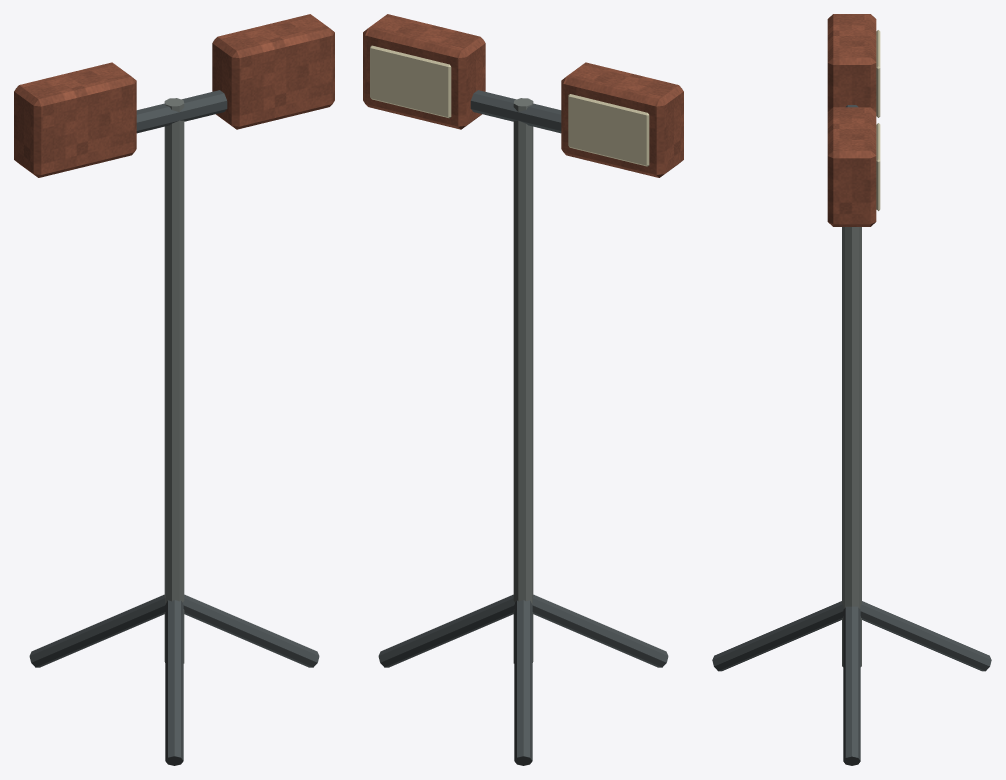
3 renders of one model, left to right at view 1: azimuth 30°, elevation 25°; view 2: azimuth 150°, elevation 25°; view 3: azimuth 270°, elevation 25°, orthographic. The views are drawn at different scales.
Parts seen in each view (by area): view 1: LampYaw_Mesh, ST2-P04_Mesh; view 2: LampYaw_Mesh, ST2-P04_Mesh; view 3: ST2-P04_Mesh, LampYaw_Mesh.
Boxes of the visible parts, x1=… form: LampYaw_Mesh: x1=14, y1=14, x2=334, y2=177; ST2-P04_Mesh: x1=29, y1=98, x2=319, y2=765; LampYaw_Mesh: x1=363, y1=14, x2=683, y2=177; ST2-P04_Mesh: x1=378, y1=98, x2=668, y2=765; ST2-P04_Mesh: x1=712, y1=227, x2=991, y2=765; LampYaw_Mesh: x1=827, y1=14, x2=880, y2=226.
Size of the model in its own units: 1.52 by 3.1 by 1.27.
